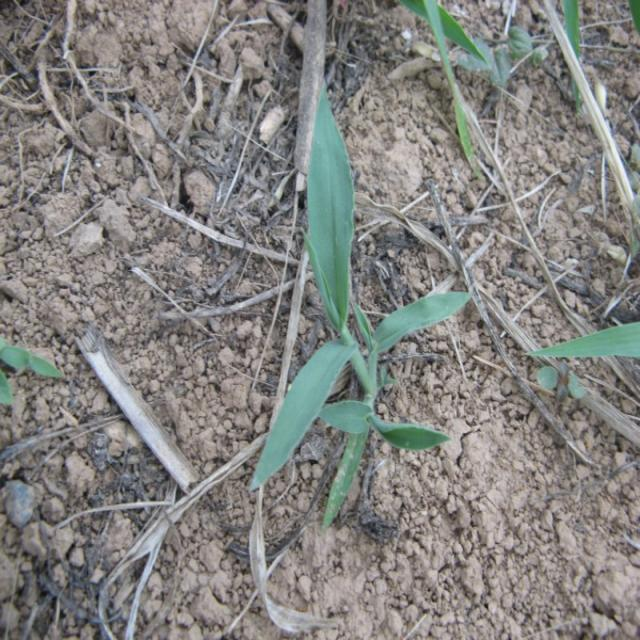bg: (252, 82, 470, 520)
